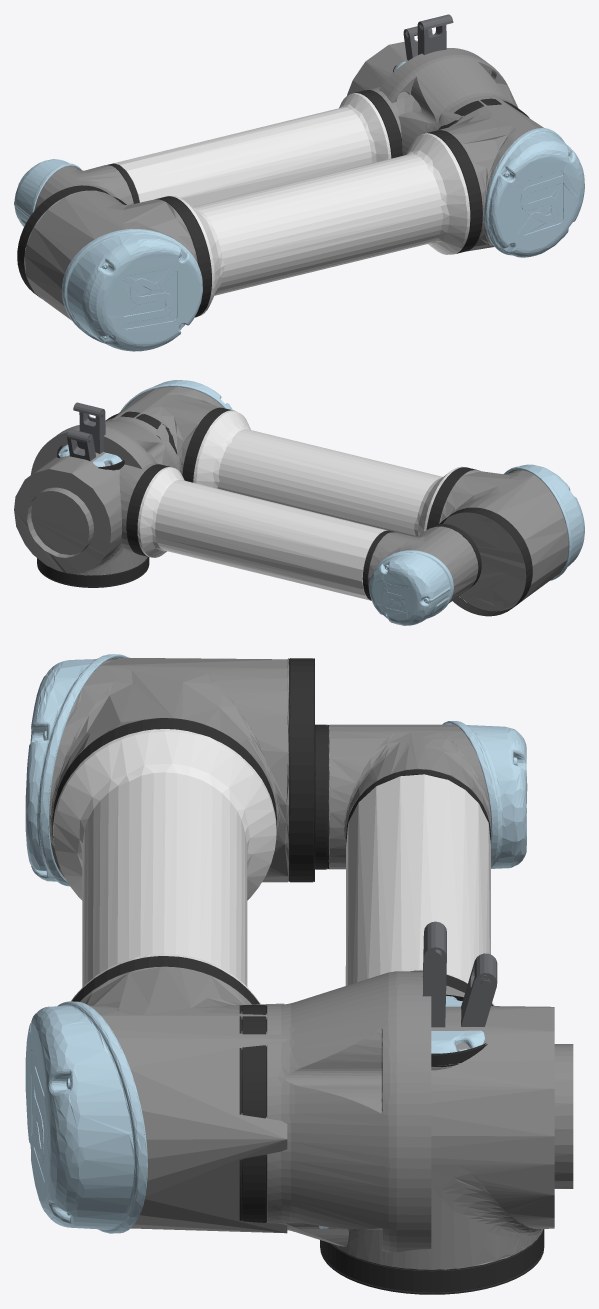
The picture shows the model from 3 angles, top to bottom: view 1: azimuth 30°, elevation 25°; view 2: azimuth 150°, elevation 25°; view 3: azimuth 270°, elevation 25°; orthographic projection. The views are drawn at different scales.
Parts seen in each view (by area): view 1: ur_upperarm_4, ur_forearm_3, ur_upperarm_3, ur_upperarm_0, ur_upperarm_6, ur_base_0, ur_upperarm_1, ur_forearm_0, ur_upperarm_2, ur_forearm_5, ur_shoulder_0, ur_upperarm_5 (+5 smaller); view 2: ur_forearm_3, ur_upperarm_4, ur_upperarm_6, ur_shoulder_0, ur_forearm_5, ur_upperarm_1, ur_base_0, ur_forearm_0, ur_upperarm_3, ur_shoulder_1, ur_upperarm_7, ur_forearm_2 (+11 smaller); view 3: ur_upperarm_4, ur_base_0, ur_upperarm_1, ur_shoulder_0, ur_forearm_3, ur_upperarm_0, ur_upperarm_6, ur_forearm_0, ur_upperarm_3, ur_forearm_5, ur_upperarm_7, ur_shoulder_1 (+9 smaller).
Part boxes in pixels (box(x1,y1,x2,y2)): ur_upperarm_4: box(168, 133, 470, 315); ur_forearm_3: box(113, 93, 391, 206); ur_upperarm_3: box(61, 229, 202, 351); ur_upperarm_0: box(484, 128, 584, 257); ur_upperarm_6: box(24, 190, 197, 320); ur_base_0: box(379, 48, 518, 155); ur_upperarm_1: box(437, 94, 544, 251); ur_forearm_0: box(34, 165, 133, 210); ur_upperarm_2: box(427, 130, 482, 253); ur_forearm_5: box(14, 159, 82, 226); ur_shoulder_0: box(347, 40, 417, 95); ur_upperarm_5: box(155, 196, 211, 317); ur_forearm_3: box(137, 467, 387, 600); ur_upperarm_4: box(193, 410, 464, 536); ur_upperarm_6: box(439, 469, 568, 611); ur_shoulder_0: box(14, 451, 147, 575); ur_forearm_5: box(369, 550, 453, 625); ur_upperarm_1: box(111, 386, 223, 474); ur_base_0: box(31, 416, 179, 474); ur_forearm_0: box(368, 526, 478, 602); ur_upperarm_3: box(503, 464, 584, 580); ur_shoulder_1: box(37, 557, 149, 587); ur_upperarm_7: box(439, 507, 532, 616); ur_forearm_2: box(126, 464, 169, 556); ur_upperarm_4: box(53, 729, 276, 1004); ur_base_0: box(267, 971, 431, 1252); ur_upperarm_1: box(80, 966, 287, 1233); ur_shoulder_0: box(332, 1006, 554, 1269); ur_forearm_3: box(345, 774, 494, 1005); ur_upperarm_0: box(25, 1001, 147, 1233); ur_upperarm_6: box(49, 657, 288, 882); ur_forearm_0: box(328, 724, 491, 869); ur_upperarm_3: box(25, 654, 127, 886); ur_forearm_5: box(442, 721, 527, 868); ur_upperarm_7: box(289, 658, 314, 882); ur_shoulder_1: box(320, 1229, 544, 1294).
Size of the model in its own units: 0.5601 by 0.1815 by 0.2834.
